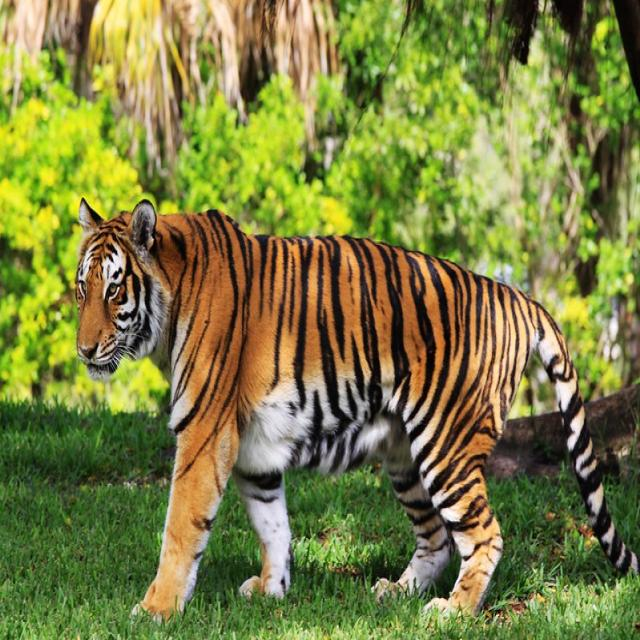Tiger: (72, 194, 609, 632)
